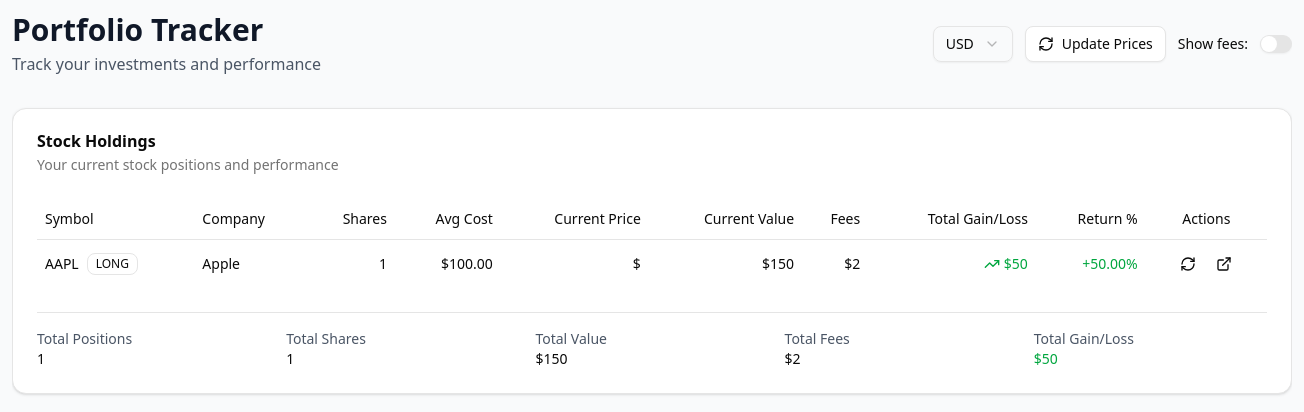
Test case: gain switches when fees toggle flipped
Check: the text "$50" in the row of "AAPL" is shown, box top-left (1004, 254), bottom-right (1028, 274)
Step 1. Click the switch → (1276, 44), box top-left (1260, 35), bottom-right (1292, 53)
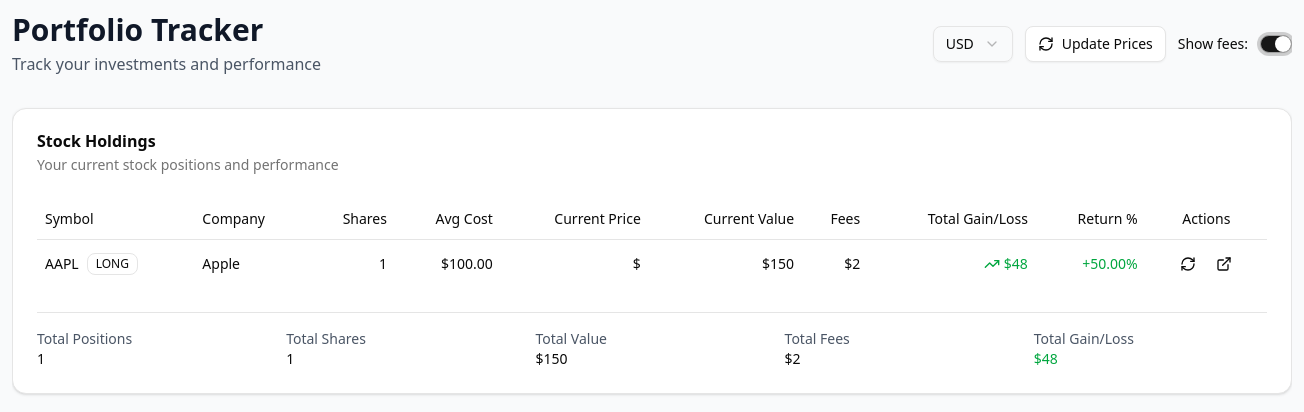
Check: the text "$48" in the row of "AAPL" is shown, box top-left (1004, 254), bottom-right (1028, 274)
